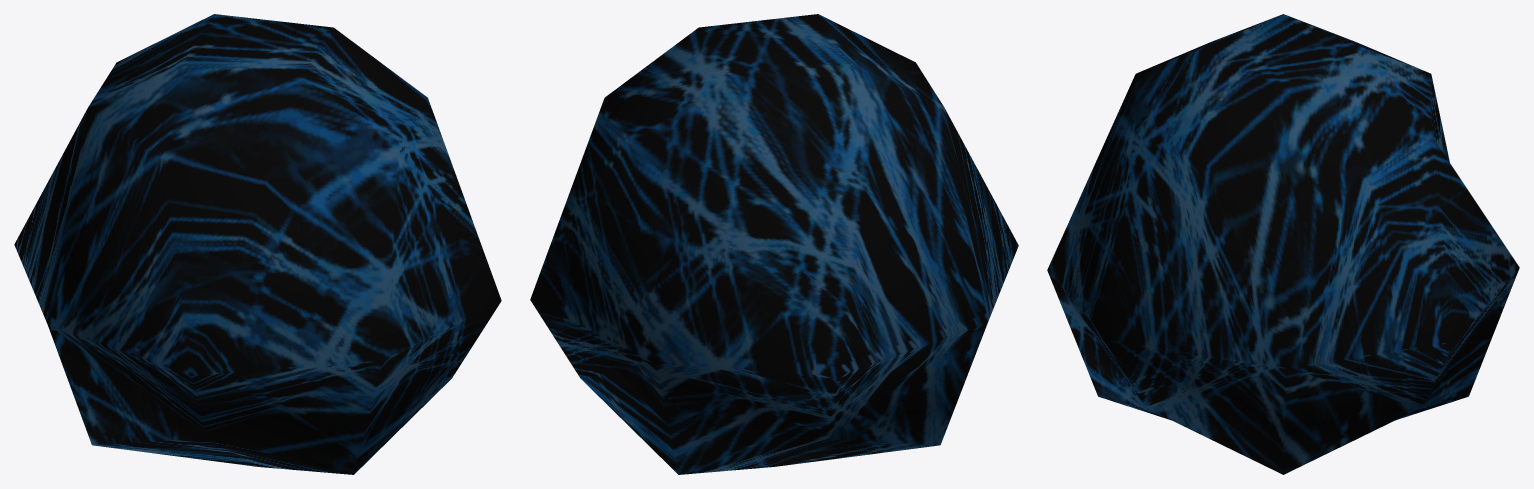
Rendered from cef_webber_grenade_l1.fbx.
3 renders of one model, left to right at view 1: azimuth 30°, elevation 25°; view 2: azimuth 150°, elevation 25°; view 3: azimuth 270°, elevation 25°, orthographic. The views are drawn at different scales.
Visible parts, largest first — view 1: mesh_node; view 2: mesh_node; view 3: mesh_node.
Boxes of the visible parts, <box> form: mesh_node: <box>14,14,501,474</box>; mesh_node: <box>530,14,1018,474</box>; mesh_node: <box>1047,14,1519,474</box>.
Size of the model in its own units: 0.956 by 0.9083 by 0.956.
